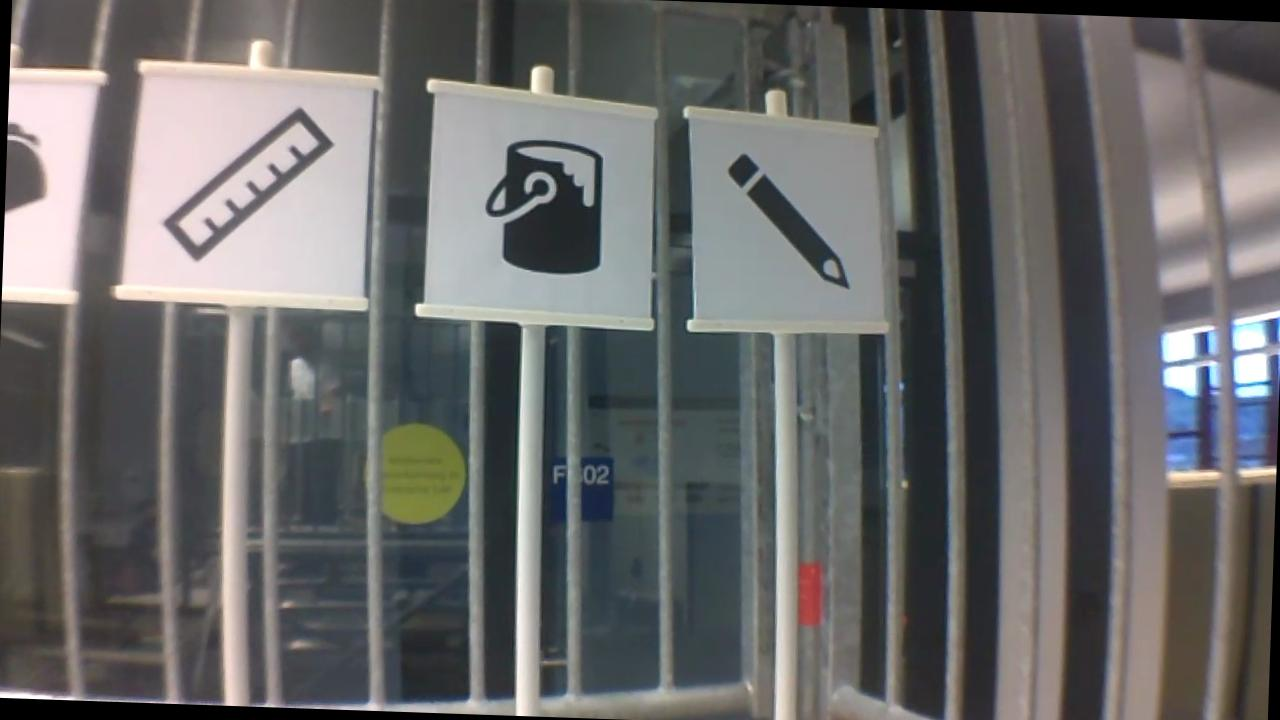bucket: (475, 134, 613, 280)
pencil: (717, 146, 864, 297)
ruler: (153, 95, 337, 270)
